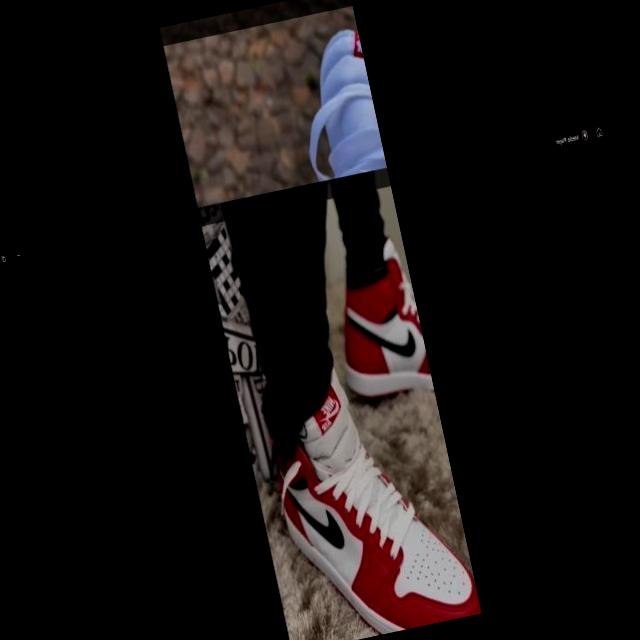nike_original_jordan: (254, 341, 481, 640)
